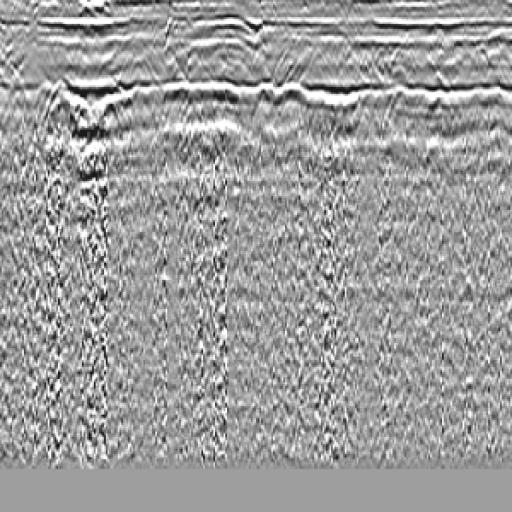metalic: (15, 53, 153, 285)
